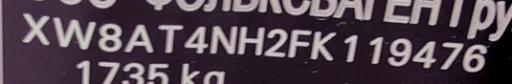letter: (52, 14, 96, 50), (18, 11, 52, 46), (122, 22, 154, 52), (236, 24, 266, 56), (156, 21, 184, 53), (209, 23, 237, 55), (386, 35, 414, 67), (97, 21, 123, 53), (183, 23, 209, 55), (286, 27, 312, 59), (310, 29, 336, 61), (438, 39, 464, 69), (462, 42, 488, 72), (263, 26, 287, 58), (412, 38, 436, 69), (342, 32, 360, 64), (367, 33, 385, 65)
